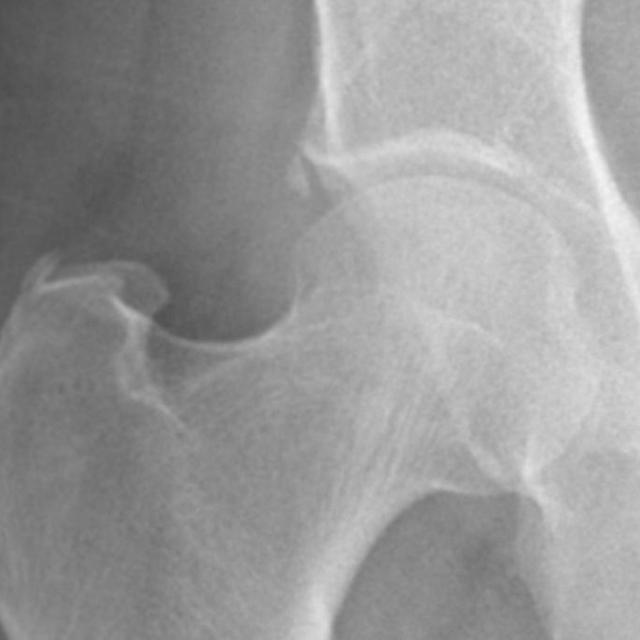Fitted_femural_head: (337, 179, 432, 337)
